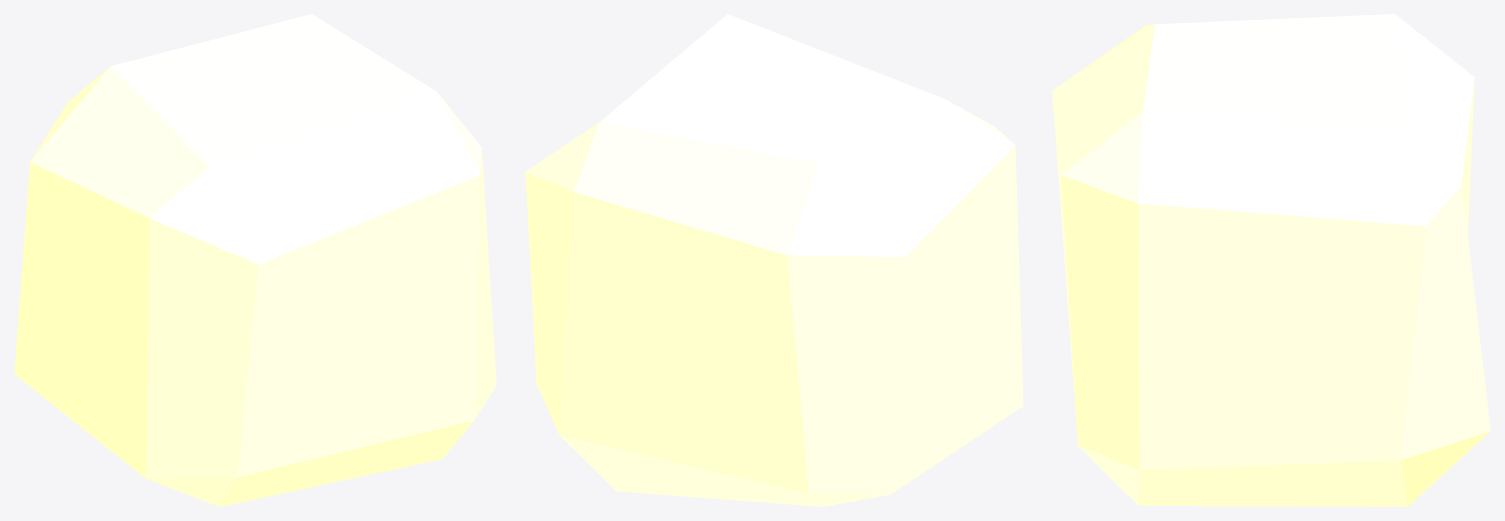
Rendered from FX_Flame_Chunk_Core.fbx.
3 renders of one model, left to right at view 1: azimuth 30°, elevation 25°; view 2: azimuth 150°, elevation 25°; view 3: azimuth 270°, elevation 25°, orthographic. The views are drawn at different scales.
Visible parts, largest first — view 1: FX_Flame_Chunk_Core; view 2: FX_Flame_Chunk_Core; view 3: FX_Flame_Chunk_Core.
Part boxes in pixels (<box>): FX_Flame_Chunk_Core: <box>14,14,496,506</box>; FX_Flame_Chunk_Core: <box>525,14,1023,506</box>; FX_Flame_Chunk_Core: <box>1052,14,1490,506</box>.
Bounding box in the file's own units: 0.2166 × 0.2167 × 0.2139.
